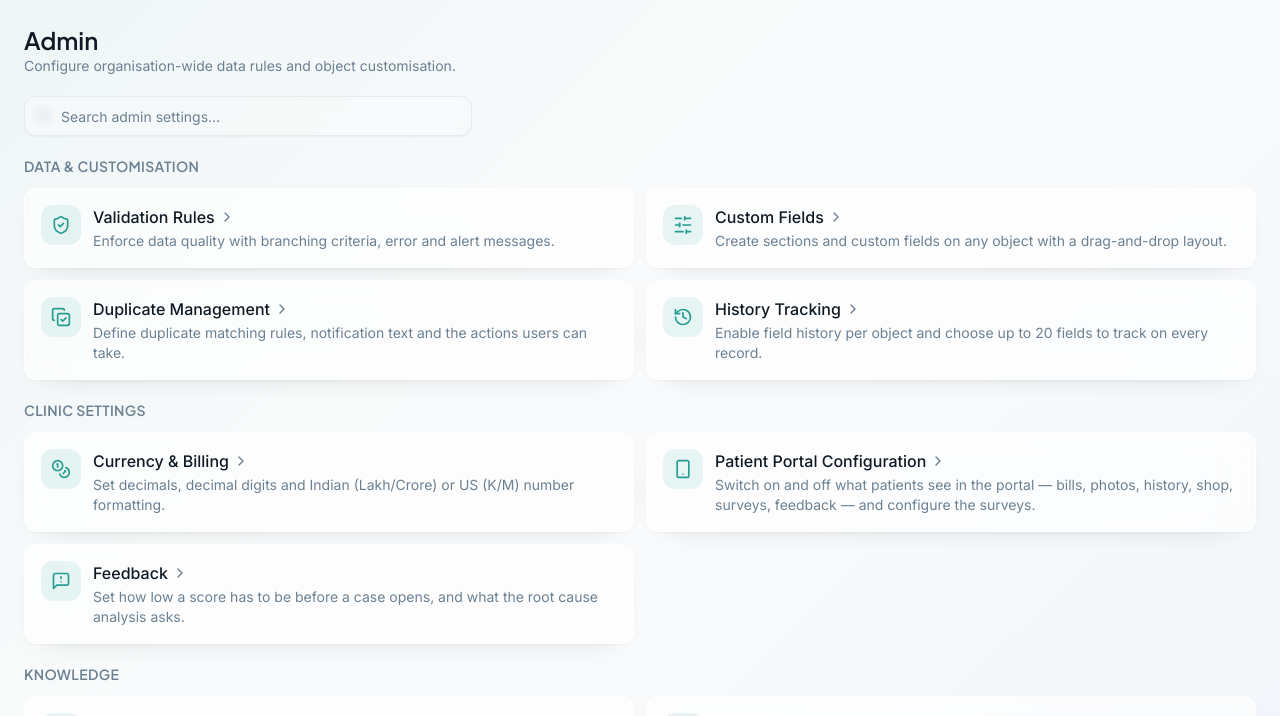
Scenario: the search box › says nothing matched rather than showing an empty page
Step 1. Type "zzzznope" into the field labelled "Search admin settings" → (248, 116), box [24,96,472,136]
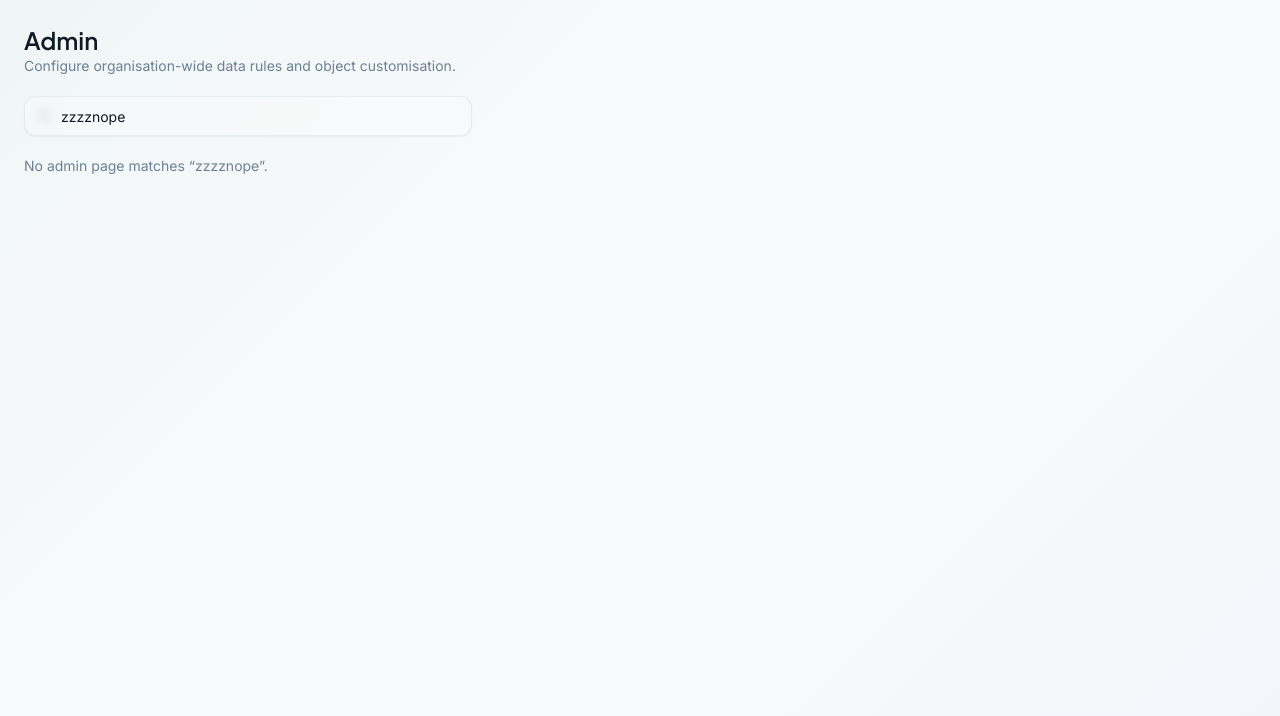
expect the text "No admin page matches “zzzznope”." is shown: met, box [24,157,268,174]
